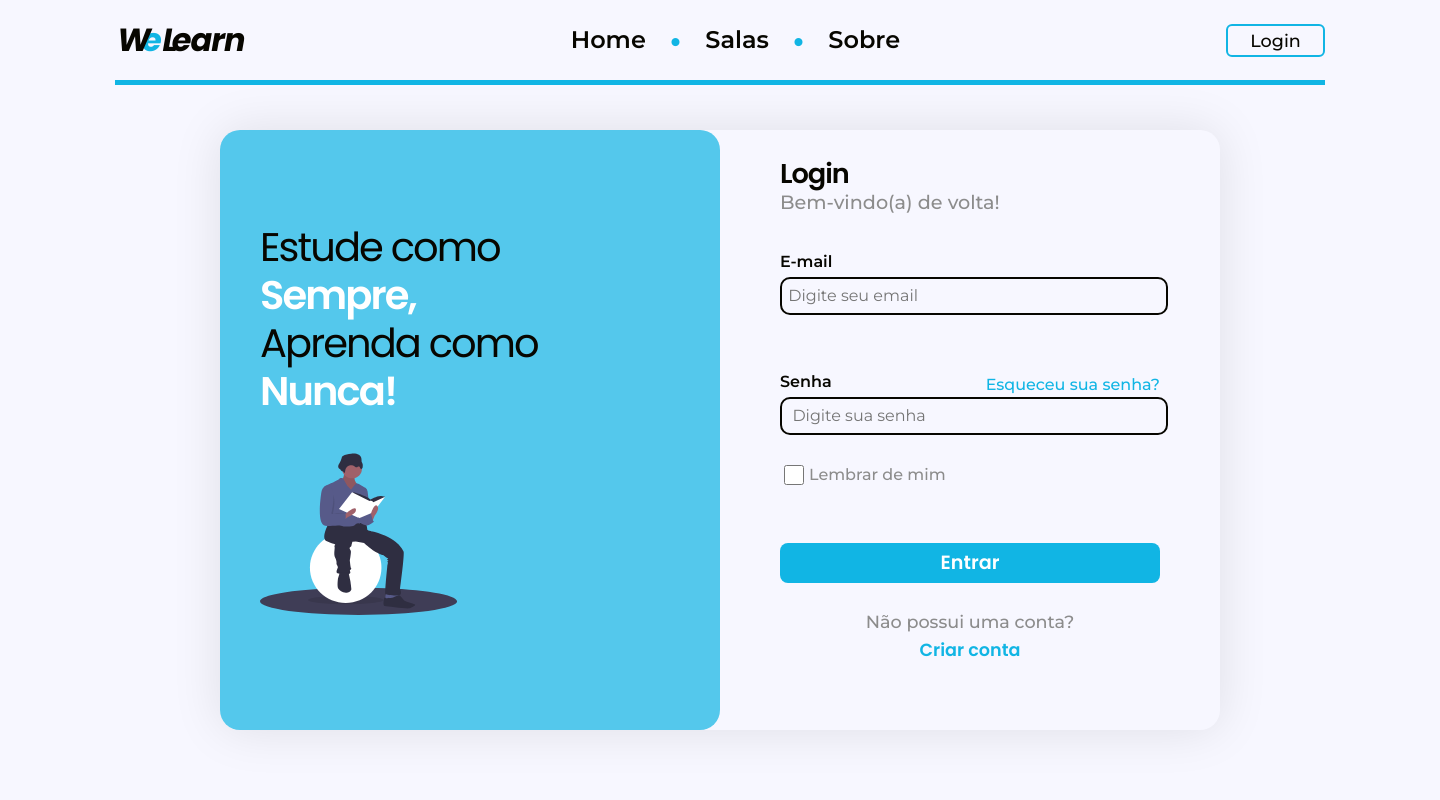
Test: Login Page › should display error when password is not entered
The width and height of the screenshot is (1440, 800).
Simula o envio do formulário sem a senha
In the field with placeholder " Digite seu email": (974, 296) [780,277,1168,315], type "user@example.com"
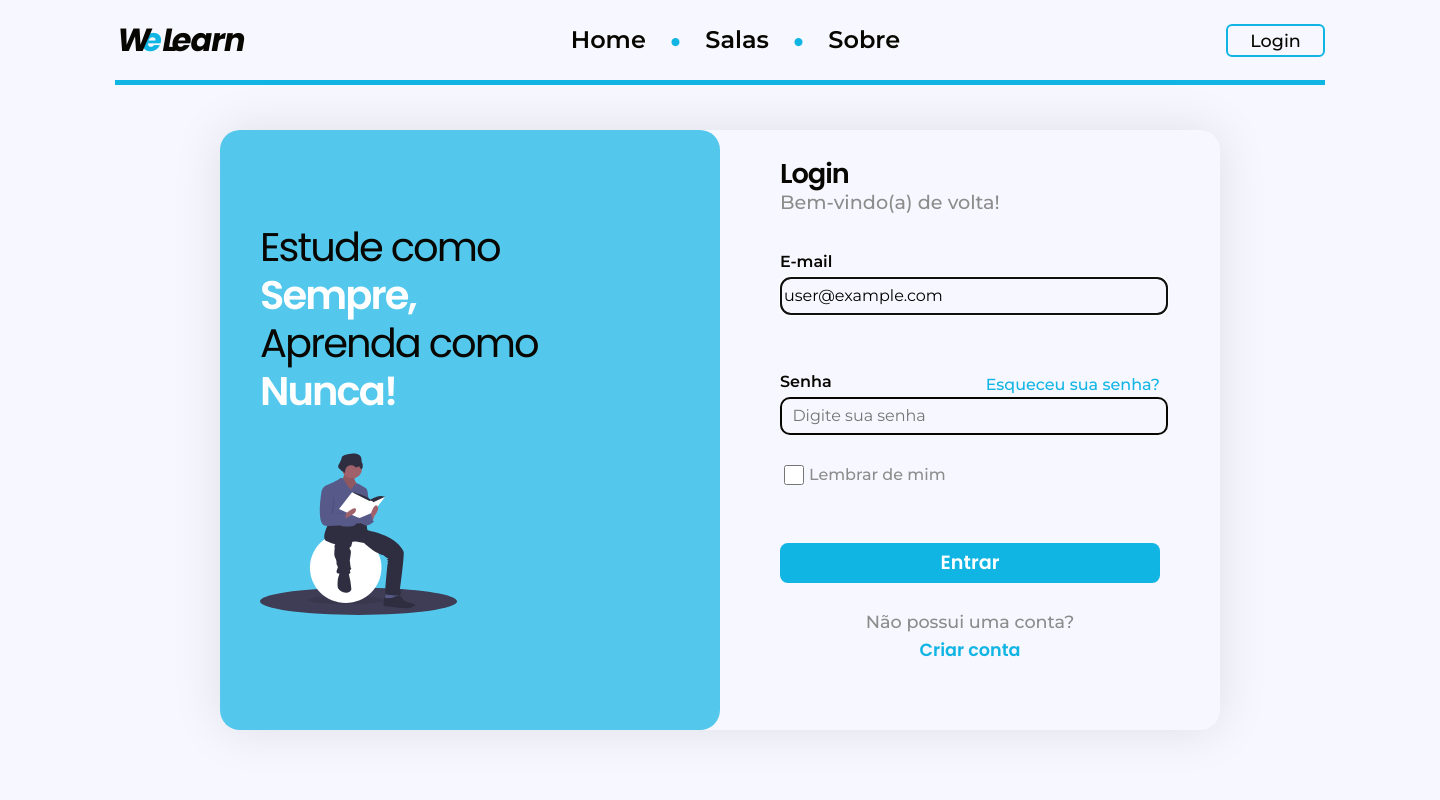
Click the button "Entrar": (970, 563) [780,543,1160,583]
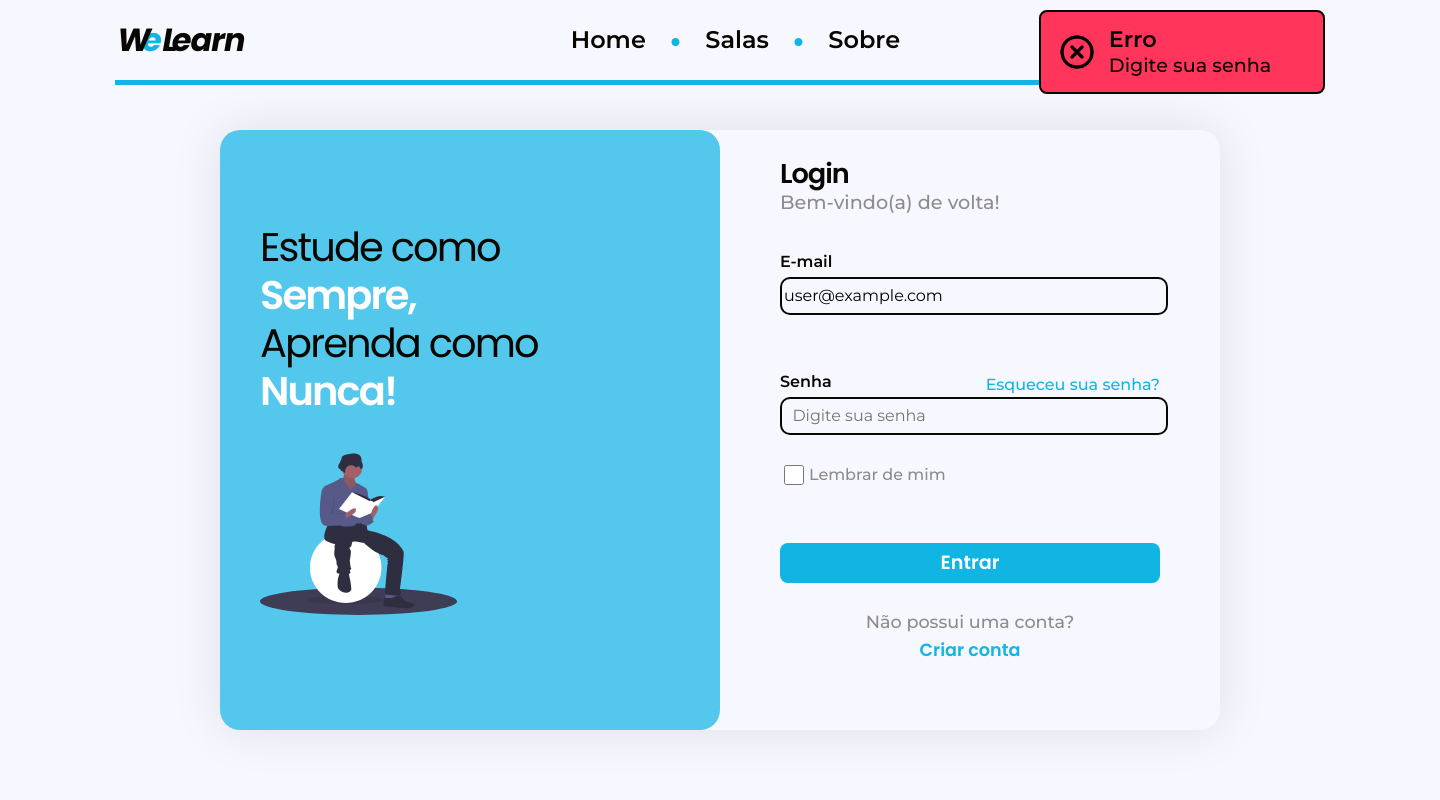
expect the text "Digite sua senha" is shown: met, box [1109,56,1271,76]
